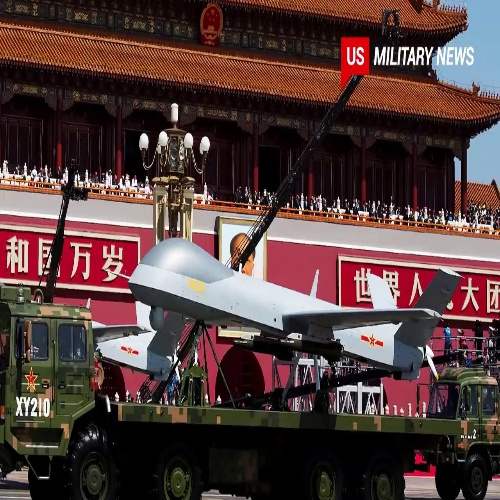uav: (89, 237, 464, 385)
